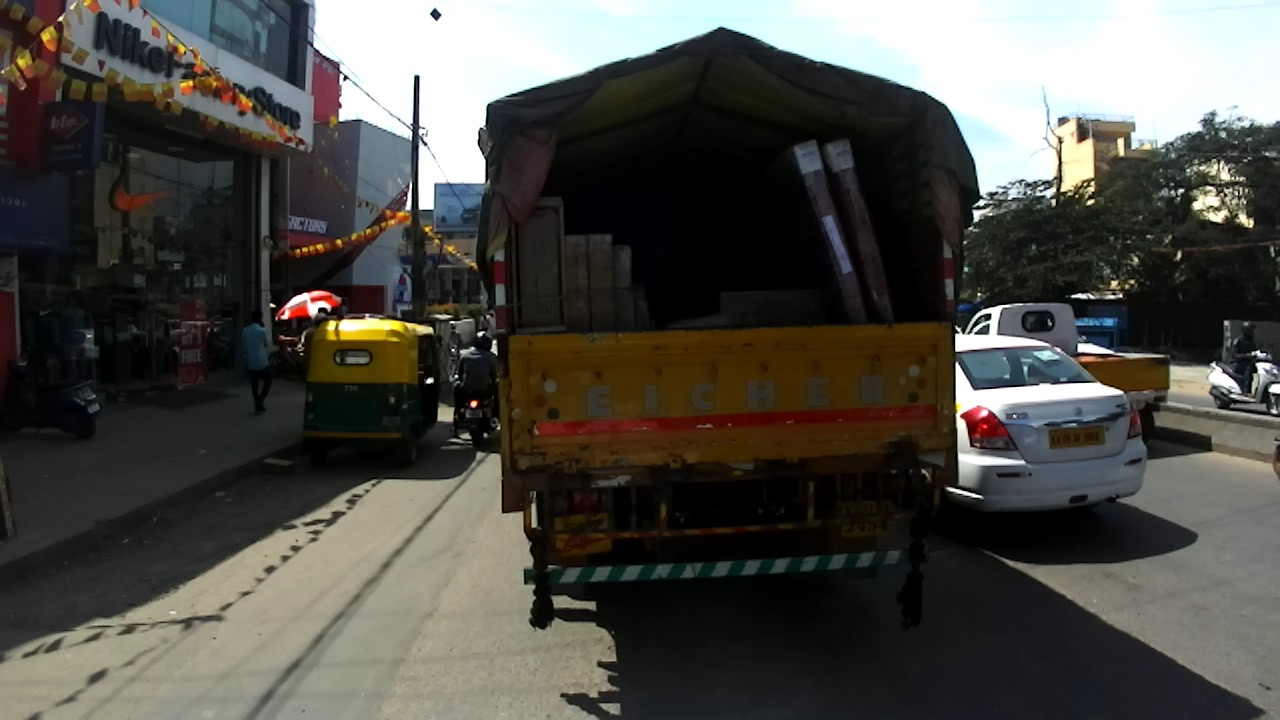autorickshaw: (303, 319, 444, 466)
car: (925, 334, 1147, 536)
motorcycle: (1, 347, 101, 440), (1207, 348, 1280, 418), (448, 375, 501, 449), (274, 330, 302, 379)
person: (242, 310, 272, 413), (303, 313, 329, 386), (437, 345, 451, 383), (449, 343, 461, 378), (479, 314, 489, 332)
rider: (450, 331, 495, 439), (453, 336, 499, 421), (1231, 321, 1258, 399)
truck: (474, 25, 981, 629), (964, 302, 1170, 445)
vehicle fallback: (1272, 437, 1280, 478)
